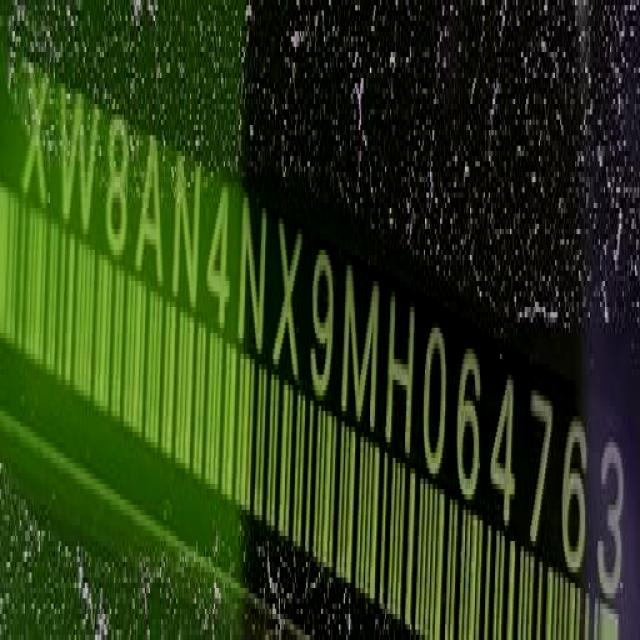0: (424, 316, 449, 488)
3: (601, 426, 628, 616)
4: (491, 372, 518, 534), (208, 164, 231, 334)
6: (560, 406, 589, 590), (456, 334, 482, 506)
7: (526, 376, 554, 560)
8: (106, 110, 131, 255)
9: (310, 244, 334, 414)
A: (136, 131, 164, 297)
H: (385, 293, 415, 453)
M: (346, 258, 381, 438)
N: (238, 190, 270, 363), (169, 156, 203, 315)
W: (57, 77, 100, 237)
X: (274, 213, 302, 388), (23, 62, 52, 214)
